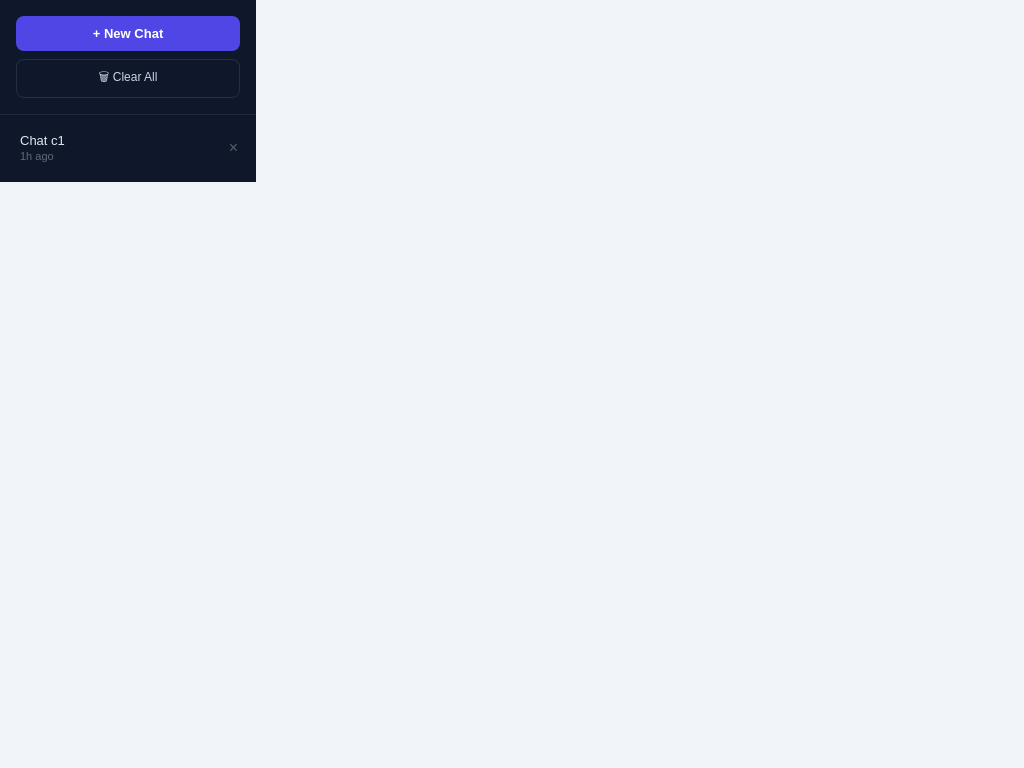
ConversationSidebar — delete single conversation › shows confirm dialog when delete button clicked
Click the button with test id "conversation-delete-btn". click: x=233, y=148
box: left=219, top=132, right=248, bottom=162
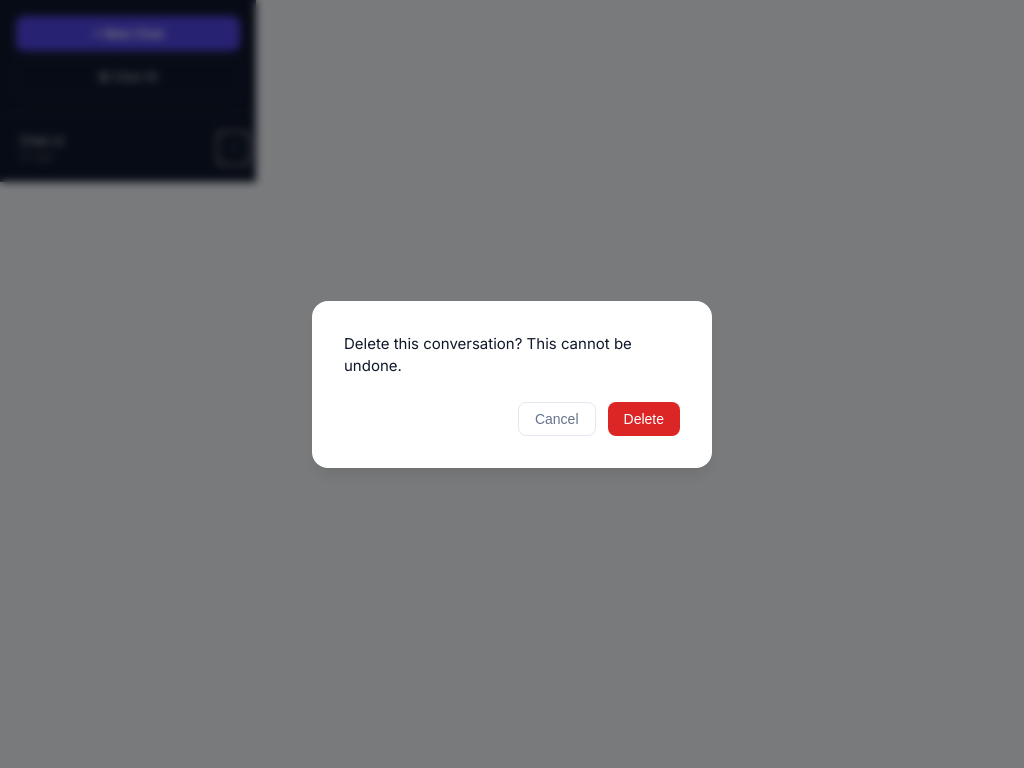
Now the 1st dialog with test id "confirm-dialog" is shown
